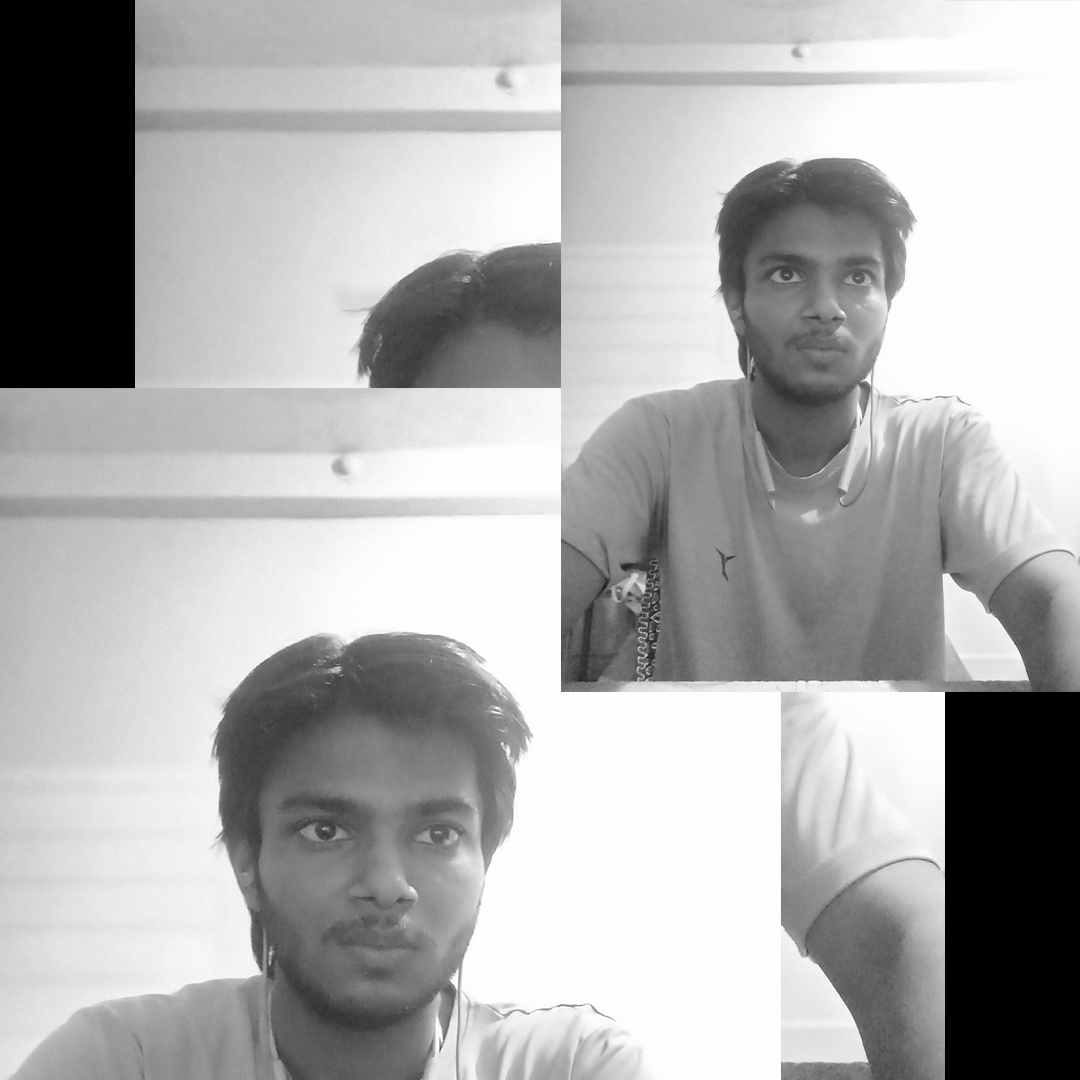Focused: (167, 530, 554, 1034), (671, 97, 966, 552)
